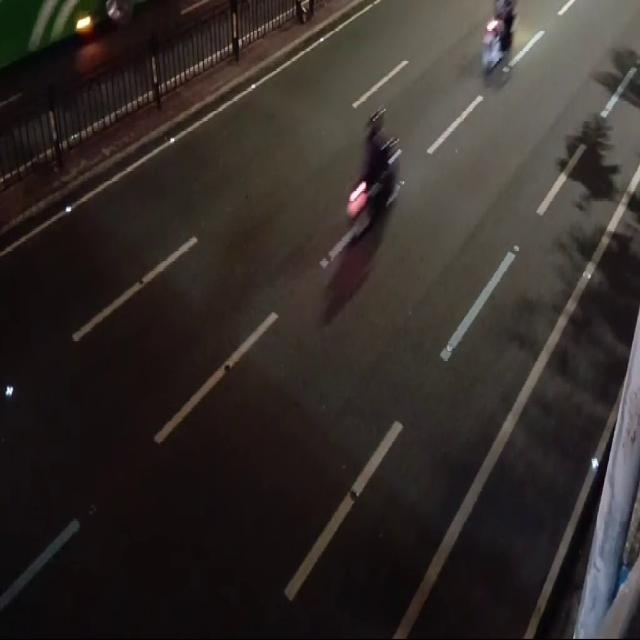motorcycle: (337, 103, 411, 250)
